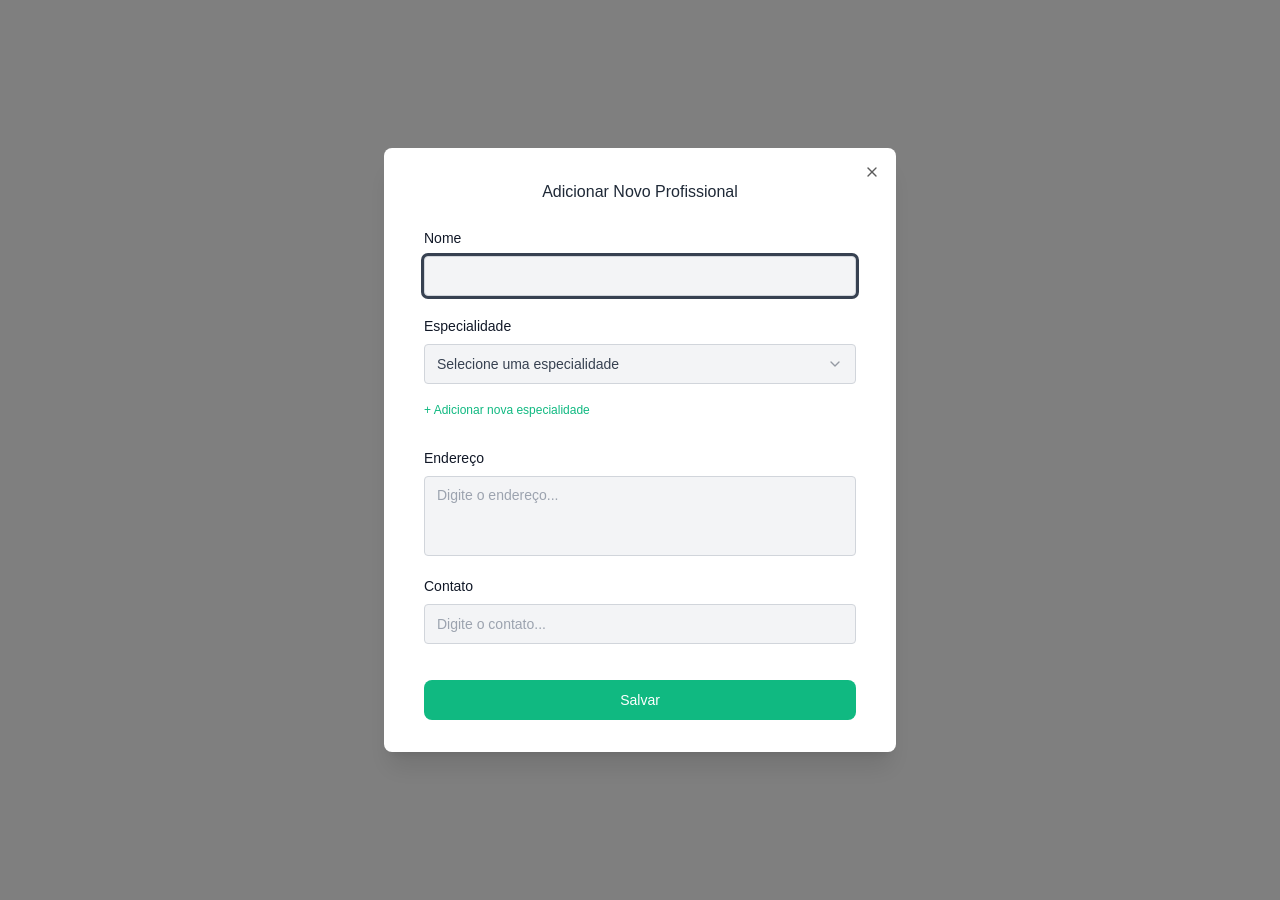
it: AddProfessionalModal › displays loaded specialties in select
Abrir o select para que as opções fiquem visíveis no DOM
Click the dropdown.
click(528, 364)  # box [424,344,856,384]
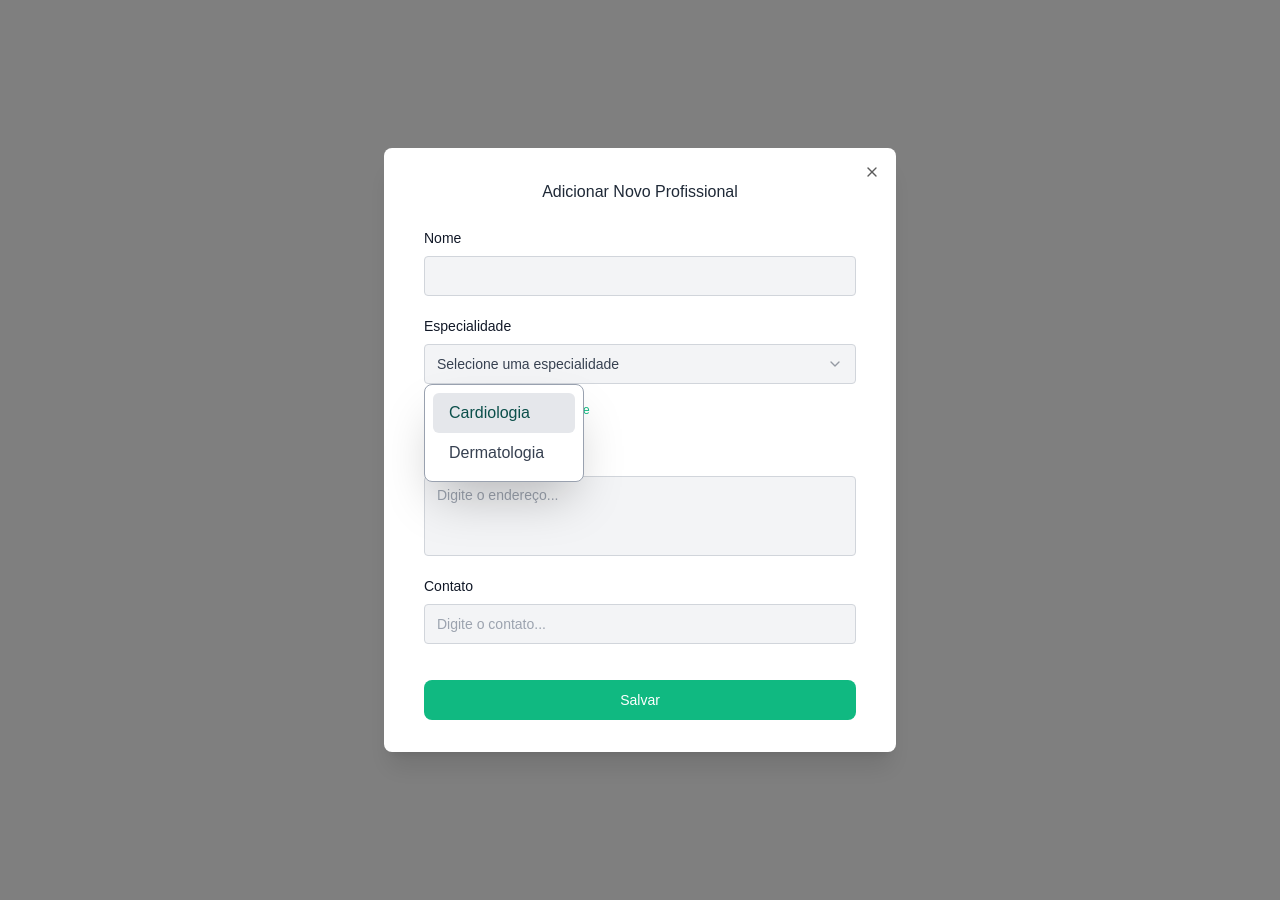
Expected: the text "Cardiologia" is shown, [449,401,530,425]
